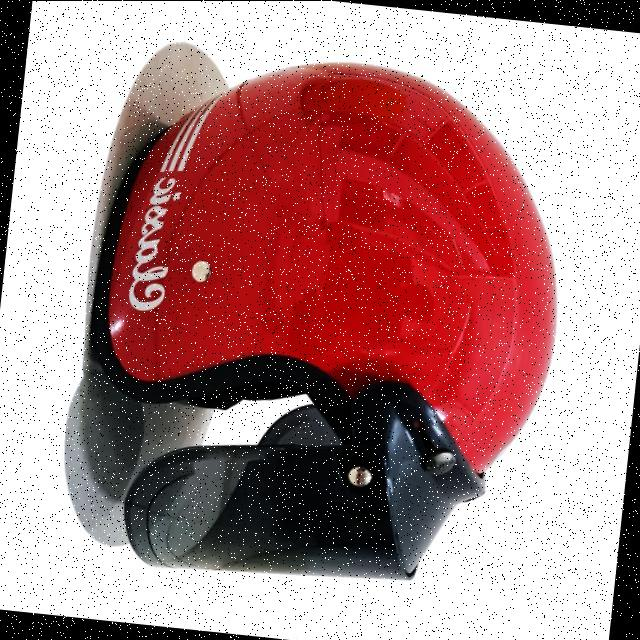Helm: (61, 34, 589, 610)
